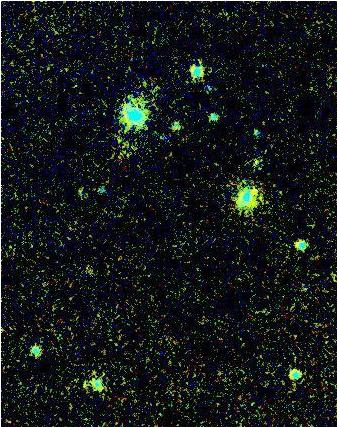star: (248, 143, 278, 173)
